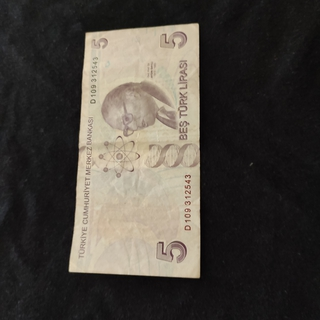5TLBack: (67, 21, 201, 279)
